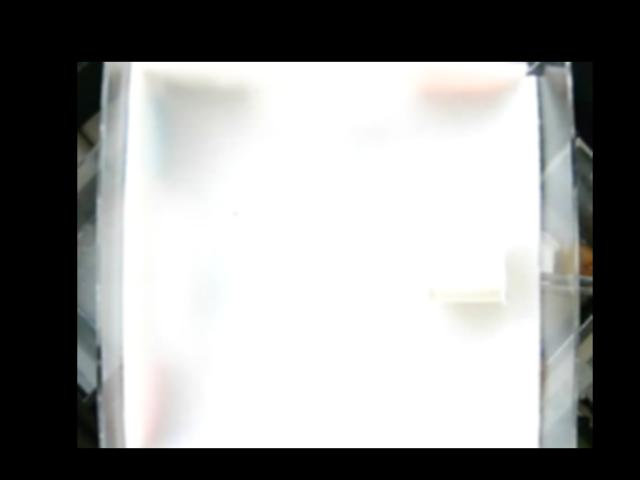Cup: (419, 217, 509, 304)
